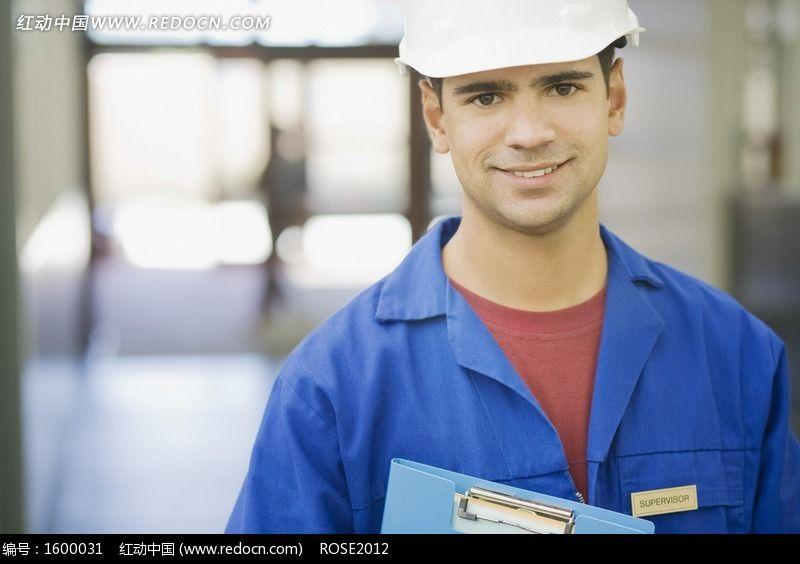helmet: (390, 1, 653, 76)
